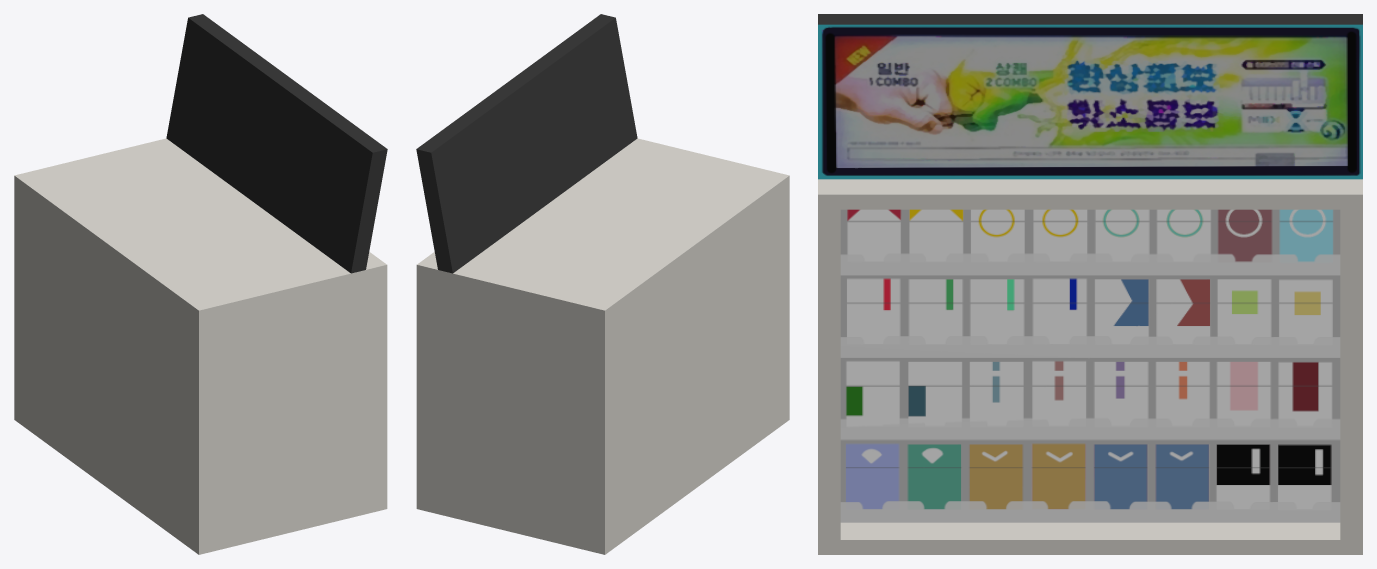
Rendered from fbx_cigarettedisplay_1.fbx.
3 renders of one model, left to right at view 1: azimuth 30°, elevation 25°; view 2: azimuth 150°, elevation 25°; view 3: azimuth 270°, elevation 25°, orthographic. The views are drawn at different scales.
Visible parts, largest first — view 1: fbx_cigarettedisplay_1; view 2: fbx_cigarettedisplay_1; view 3: fbx_cigarettedisplay_1.
Part boxes in pixels (x1,y1,x2,y2): fbx_cigarettedisplay_1: (14, 14, 387, 554); fbx_cigarettedisplay_1: (416, 14, 789, 554); fbx_cigarettedisplay_1: (818, 14, 1362, 554).
Bounding box in the file's own units: 1.24 × 2.26 × 2.1.
1 material, 1 textured.
